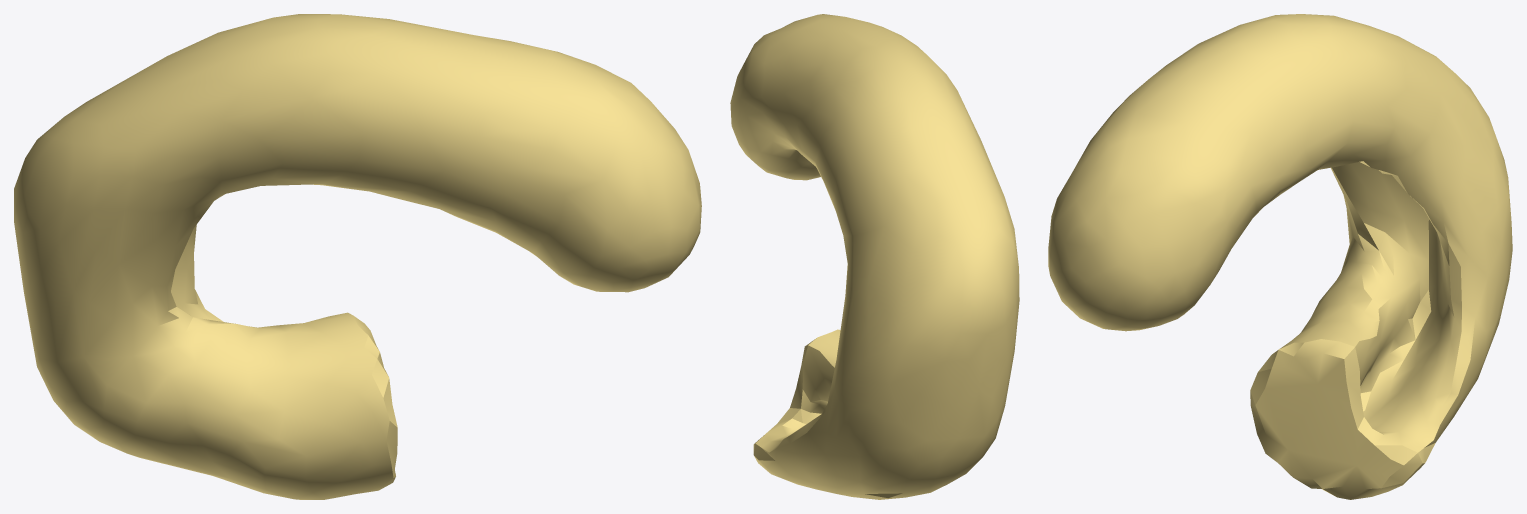
Rendered from fma274991_mm3641.glb.
3 renders of one model, left to right at view 1: azimuth 30°, elevation 25°; view 2: azimuth 150°, elevation 25°; view 3: azimuth 270°, elevation 25°, orthographic. The views are drawn at different scales.
Parts seen in each view (by area): view 1: FMA274991_MM3641; view 2: FMA274991_MM3641; view 3: FMA274991_MM3641.
Part boxes in pixels (left/top/right/bottom): FMA274991_MM3641: left=14, top=14, right=701, bottom=499; FMA274991_MM3641: left=730, top=14, right=1019, bottom=499; FMA274991_MM3641: left=1048, top=14, right=1512, bottom=499.
Bounding box in the file's own units: 0.00708 × 0.00684 × 0.00655.
